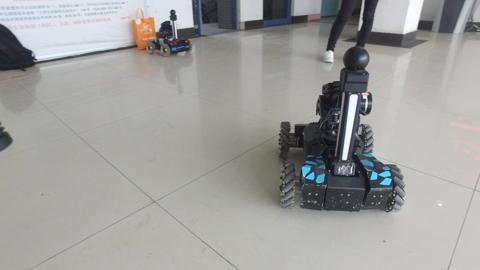bag: (1, 22, 38, 75), (131, 7, 158, 52)
chariot: (278, 45, 405, 213), (145, 8, 193, 56)
